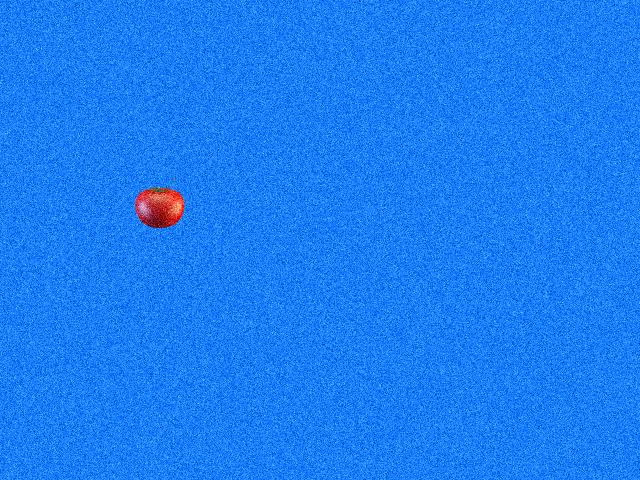tomato: (134, 188, 183, 228)
